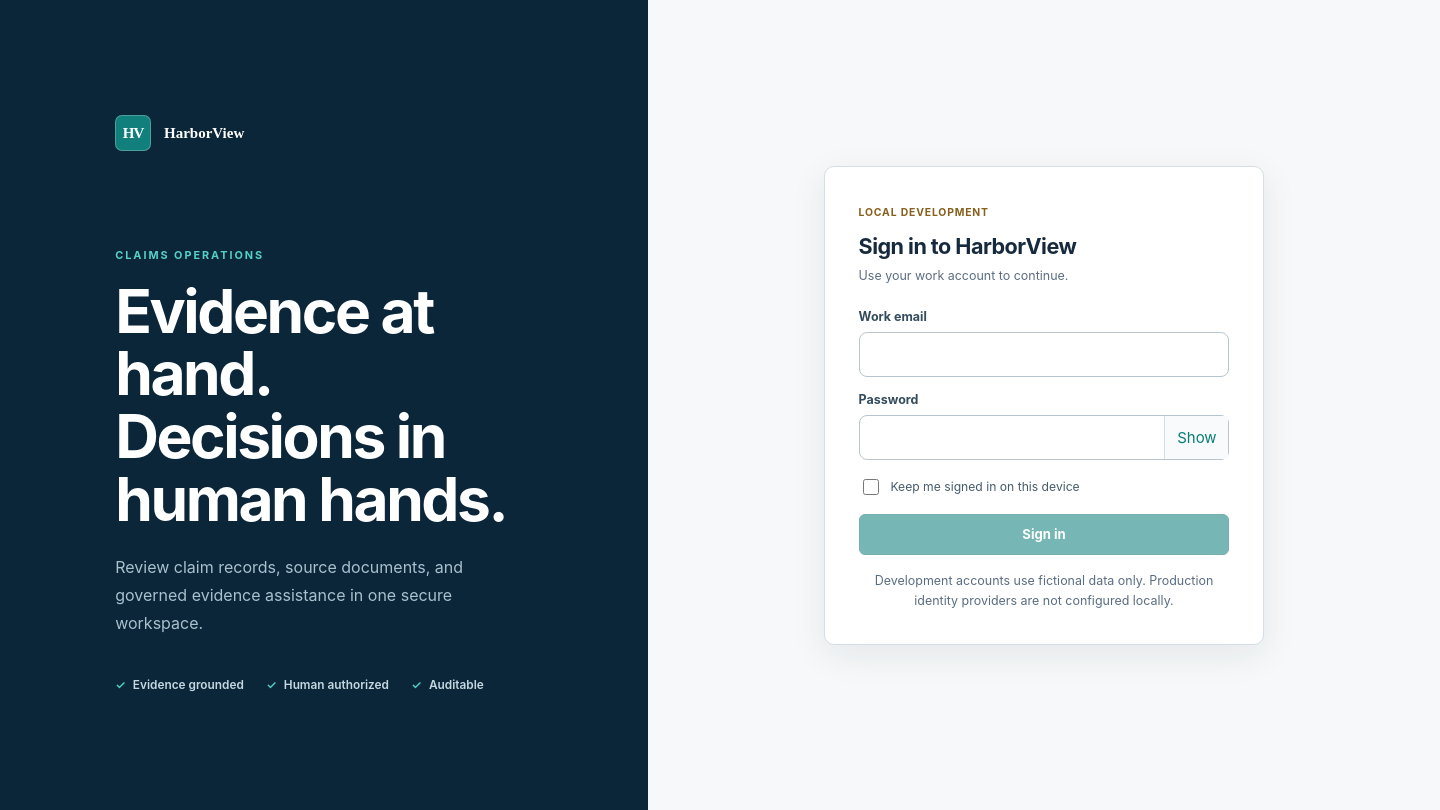
Test: SignInView › explains a throttled sign-in without exposing provider details
The image size is (1440, 810).
Type "avery.morgan@example.invalid" into the field labelled "Work email" at (1044, 355), box [859, 332, 1229, 377]
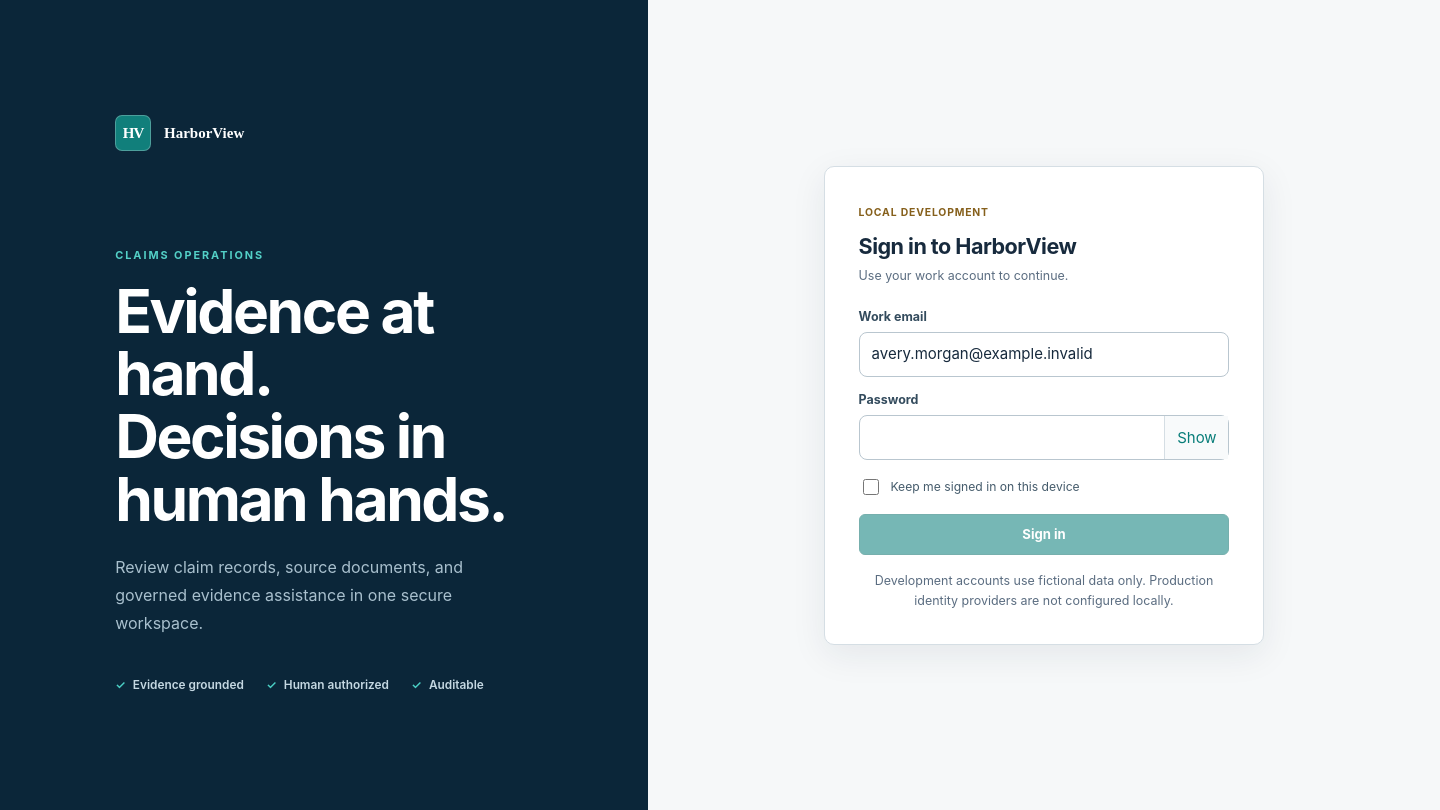
Type "wrong-password" into the password field labelled "Password" at (1044, 438), box [859, 415, 1229, 460]
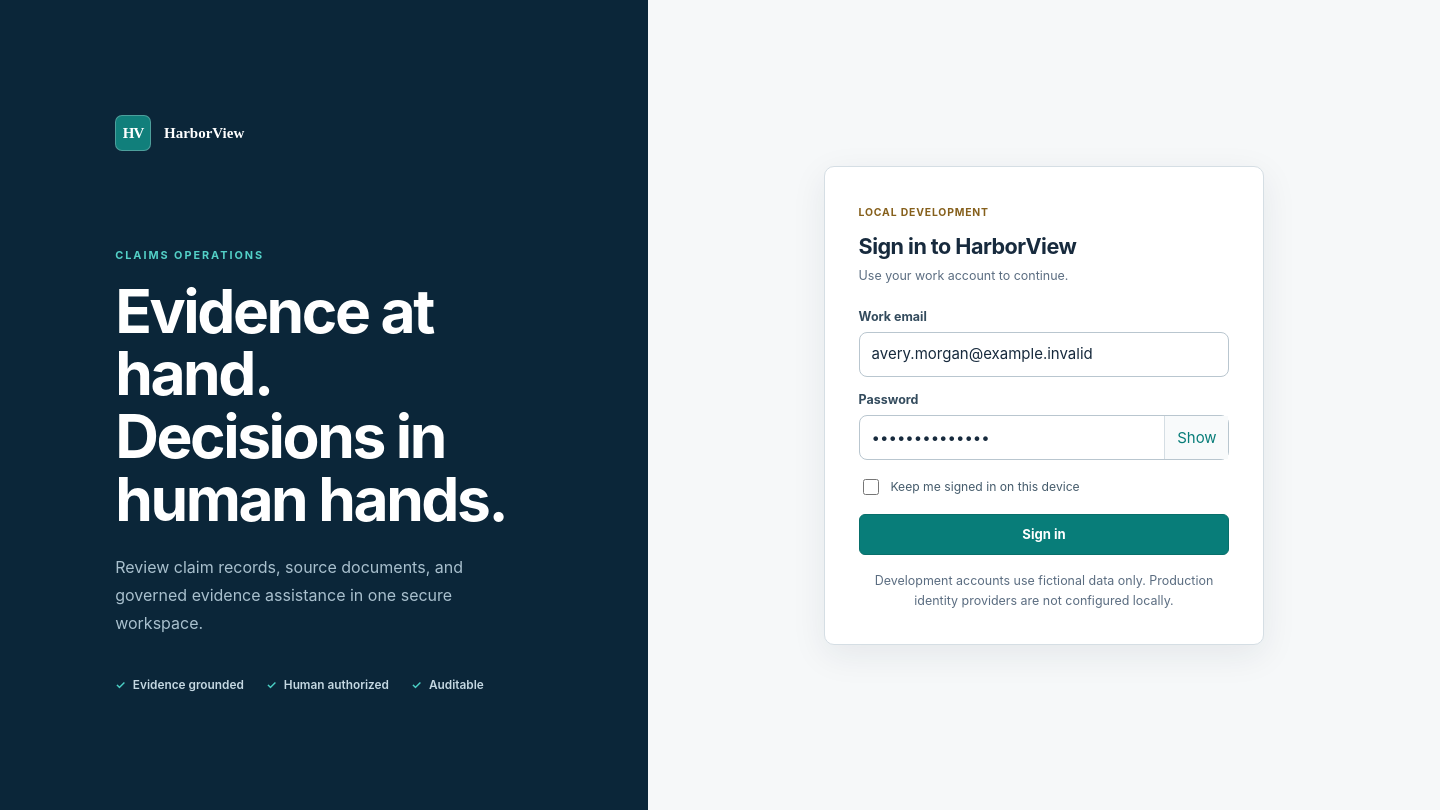
Submit the form, box [824, 166, 1264, 644]
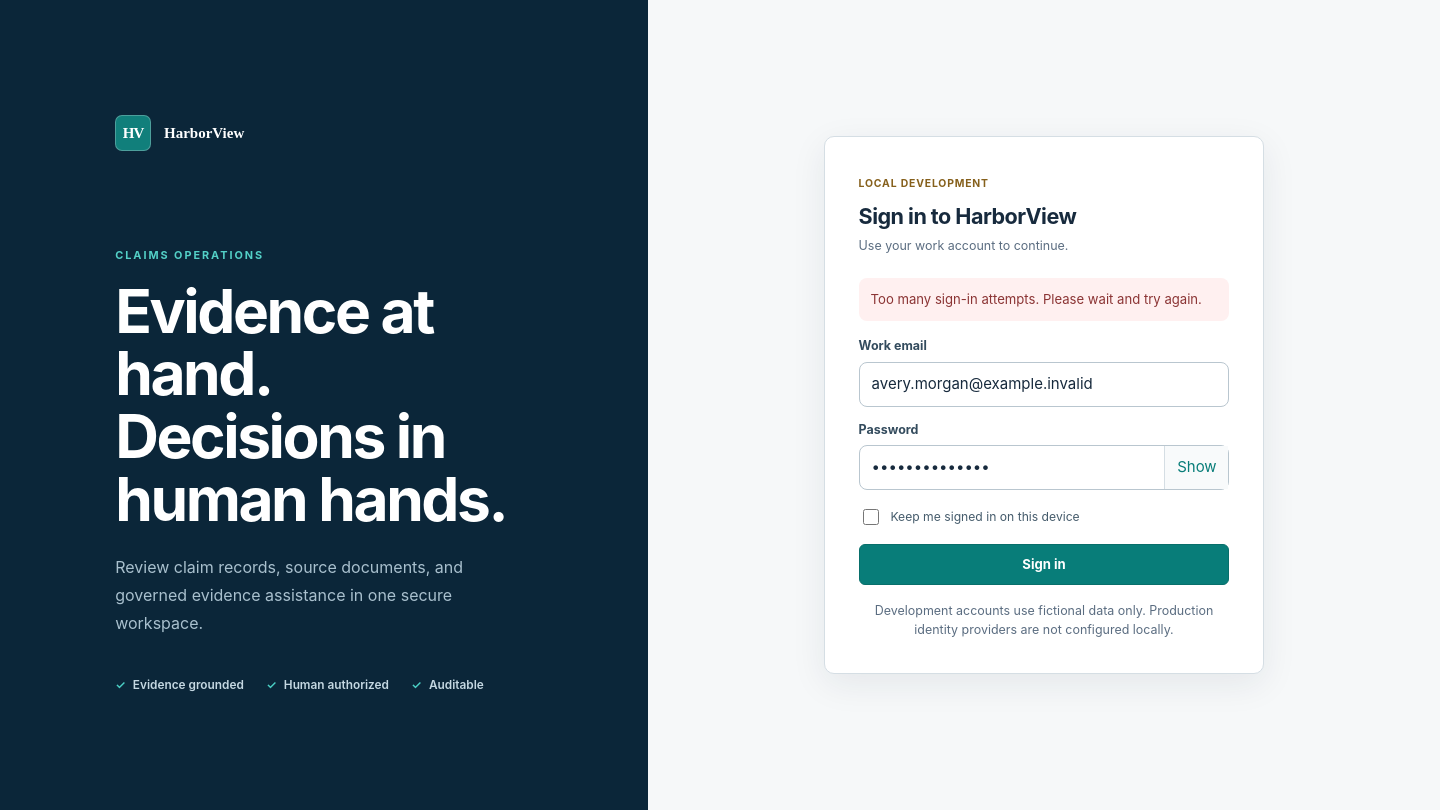
Now the message "Too many sign-in attempts. Please wait and try again." is shown, box [859, 278, 1229, 322]
